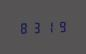eight: (18, 20, 29, 34)
nine: (54, 19, 65, 33)
one: (42, 20, 53, 33)
three: (30, 20, 41, 34)
